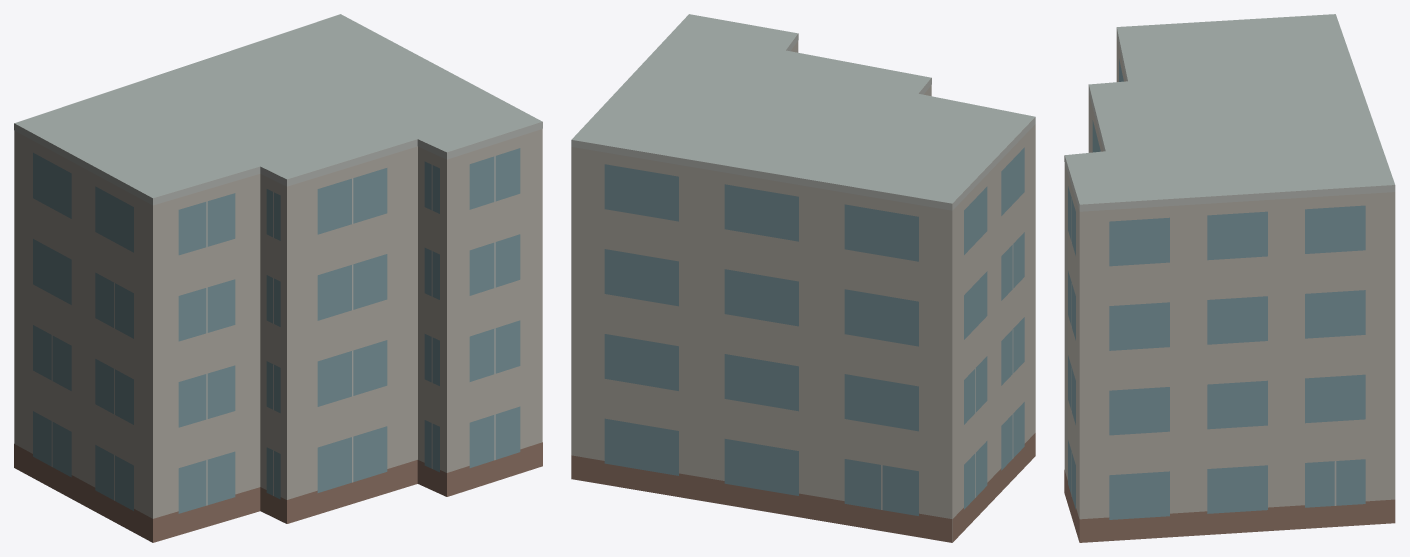
File: survey-upis-32809186.glb
3 views of the same model, side by side, from view 1: azimuth 30°, elevation 25°; view 2: azimuth 150°, elevation 25°; view 3: azimuth 270°, elevation 25° (orthographic).
Parts seen in each view (by area): view 1: survey-upis-32809186.tmp; view 2: survey-upis-32809186.tmp; view 3: survey-upis-32809186.tmp.
Boxes of the visible parts, bbox=[...] form: survey-upis-32809186.tmp: bbox=[14, 14, 542, 542]; survey-upis-32809186.tmp: bbox=[571, 14, 1035, 542]; survey-upis-32809186.tmp: bbox=[1064, 14, 1395, 542].
Size of the model in its own units: 14.15 by 11.7 by 10.38.
